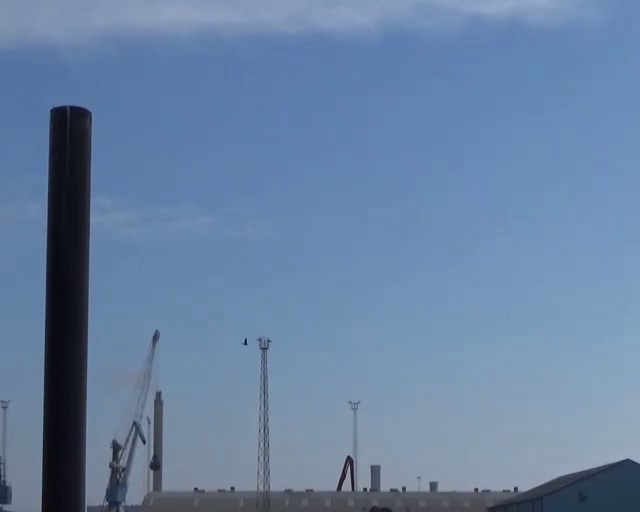BIRD: (242, 337, 248, 345)
